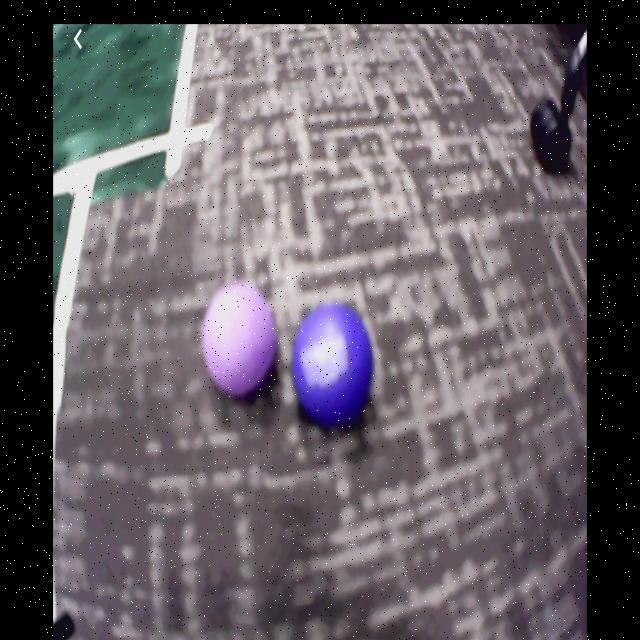ball: (290, 304, 372, 431), (203, 282, 276, 396)
